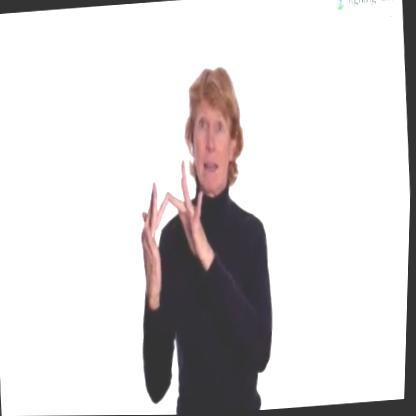Internet: (121, 60, 291, 415)
